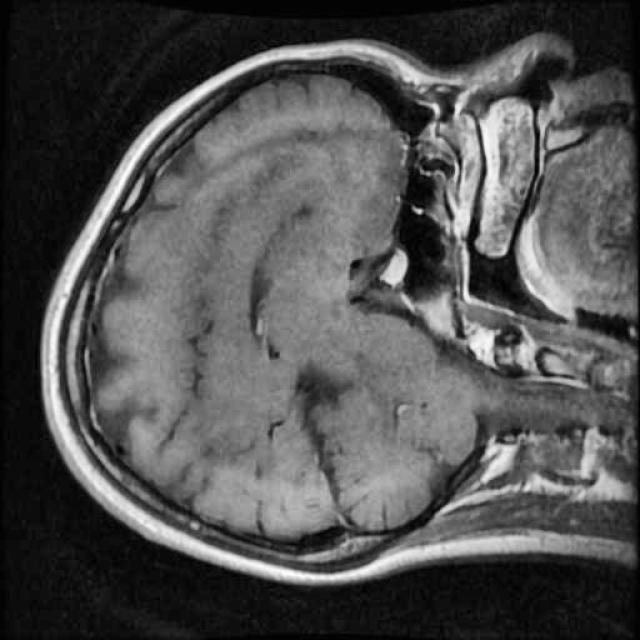Tumor: (374, 240, 418, 304)
